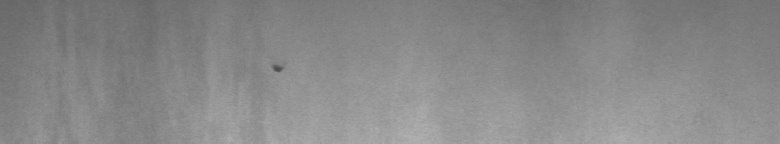fi: (269, 60, 286, 80)
